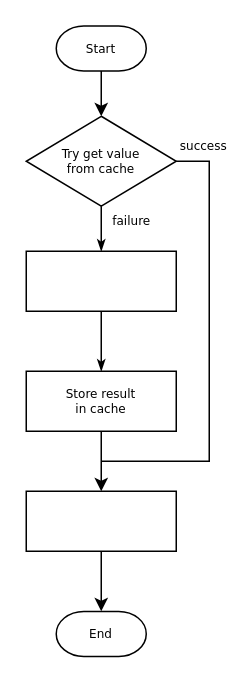
This 252x684 diagram has some shape labels left out. Here are the shapes that lost their labels. From the top down, the centre of each, then its label:
At (x=100, y=280): "Invoke underlying function".
At (x=100, y=520): "Return result".
